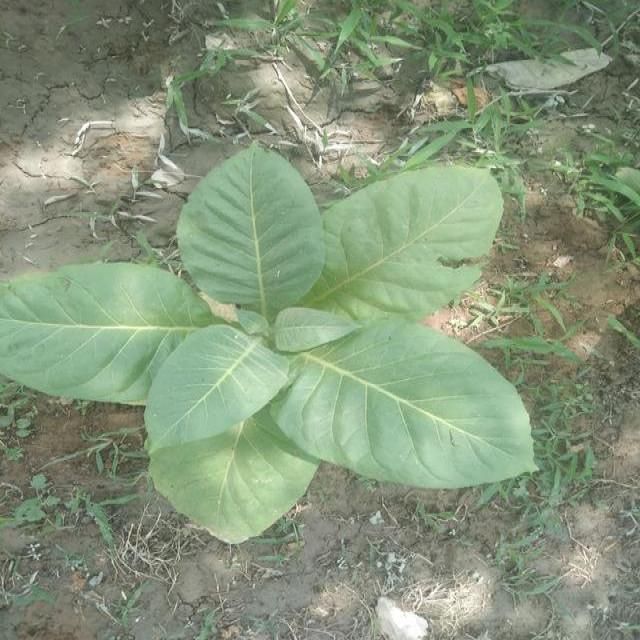crop: (0, 142, 542, 543)
